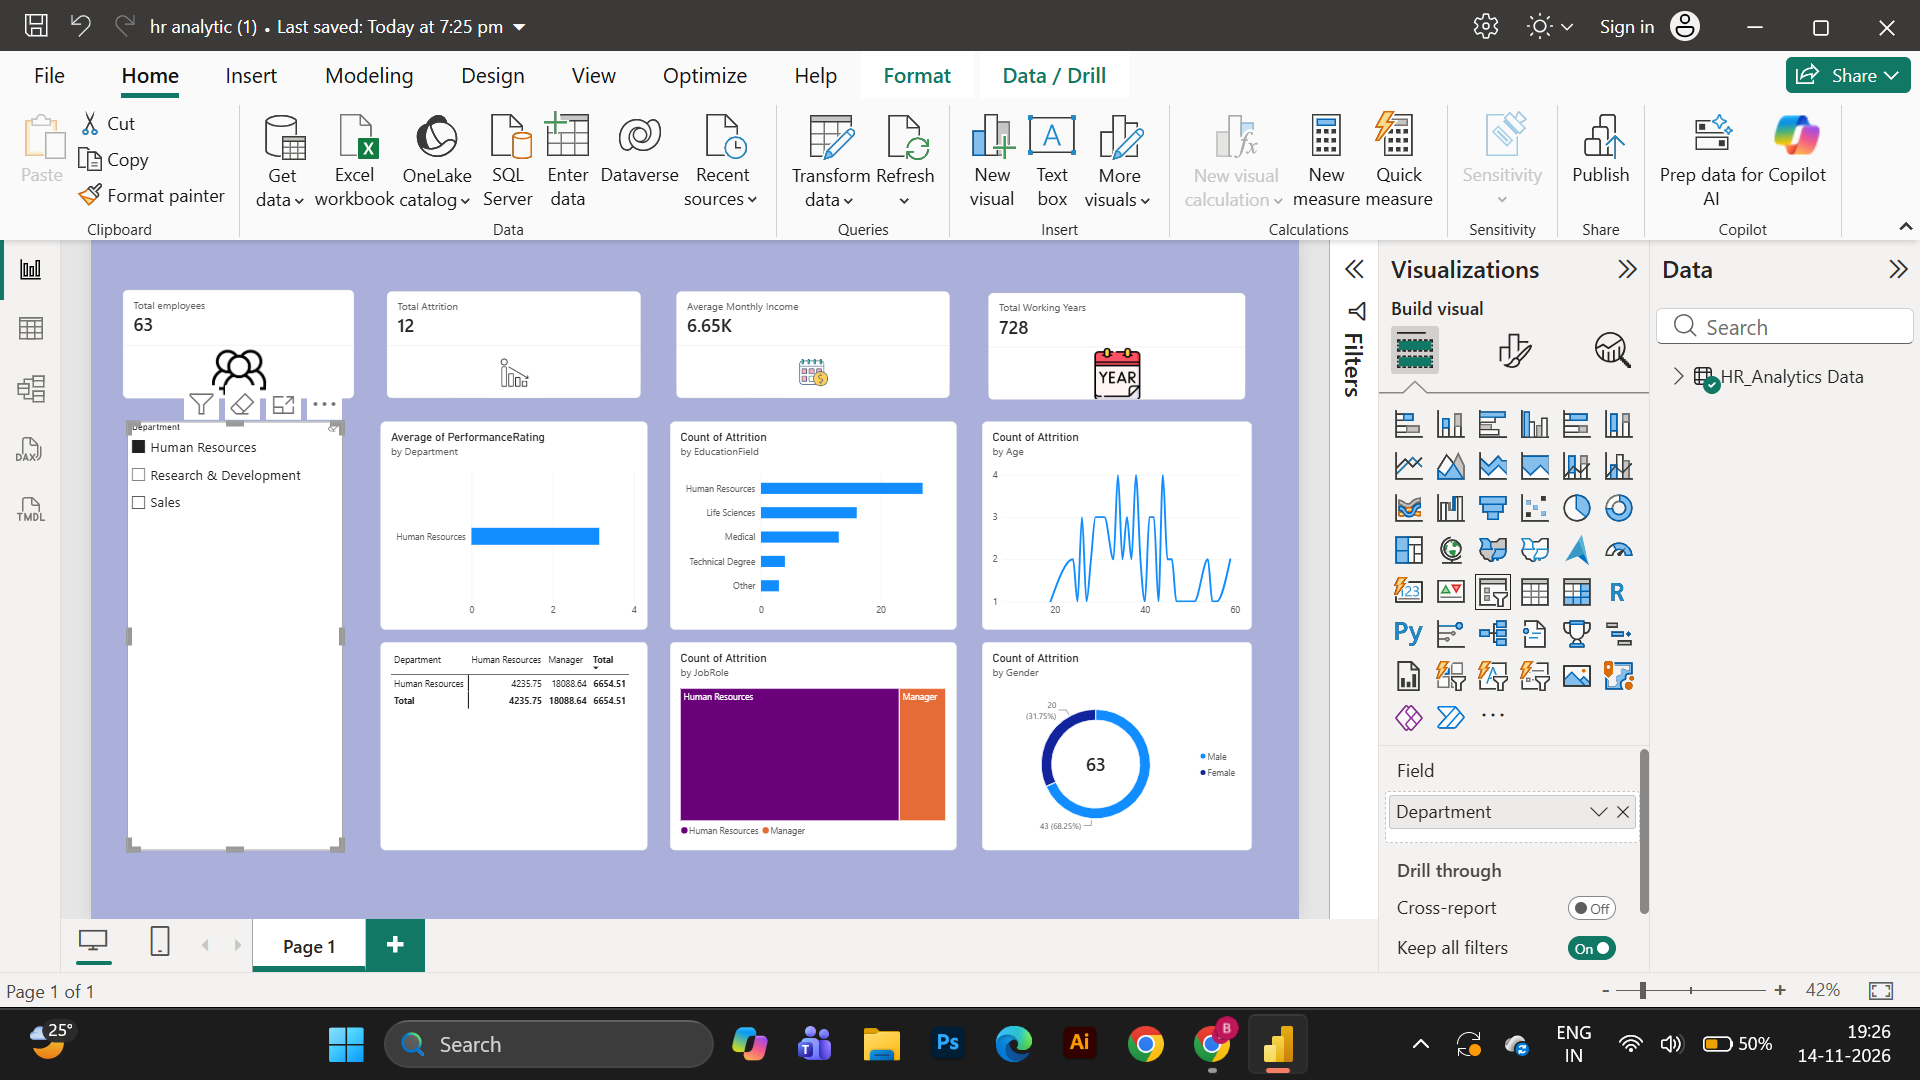

This screenshot's page, from the dashboard's own definition file:
{"tool":"powerbi","page":{"name":"Page 1","canvas":[1920,1080],"ordinal":0},"visuals":[{"type":"slicer","fields":{"Values":["HR_Analytics Data.Department"]},"box":[57.3,288.7,343.6,682.4],"z":0},{"type":"donutChart","fields":{"Category":["HR_Analytics Data.Gender"],"Y":["CountNonNull(HR_Analytics Data.Attrition)"]},"box":[1417.2,639.4,429.5,331.6],"z":1000},{"type":"clusteredBarChart","fields":{"Category":["HR_Analytics Data.EducationField"],"Y":["CountNonNull(HR_Analytics Data.Attrition)"]},"box":[921,288.7,455.7,331.6],"z":2000},{"type":"cardVisual","fields":{"Data":["Sum(HR_Analytics Data.EmployeeCount)"]},"box":[40.6,69.2,388.9,193.3],"z":3000},{"type":"cardVisual","fields":{"Data":["HR_Analytics Data.Total Attrition"]},"box":[460.5,71.6,424.7,190.9],"z":4000},{"type":"lineChart","fields":{"Category":["HR_Analytics Data.Age"],"Y":["CountNonNull(HR_Analytics Data.Attrition)"]},"box":[1417.2,288.7,429.5,331.6],"z":5000},{"type":"treemap","fields":{"Group":["HR_Analytics Data.JobRole"],"Values":["CountNonNull(HR_Analytics Data.Attrition)"]},"box":[921,639.4,455.7,331.6],"z":6000},{"type":"cardVisual","fields":{"Data":["HR_Analytics Data.Average Monthly Income"]},"box":[921,71.6,455.7,190.9],"z":7000},{"type":"cardVisual","fields":{"Data":["HR_Analytics Data.Total Working Years"]},"box":[1417.2,74,429.5,190.9],"z":8000},{"type":"pivotTable","fields":{"Columns":["HR_Analytics Data.JobRole"],"Rows":["HR_Analytics Data.Department"],"Values":["Avg(HR_Analytics Data.MonthlyIncome)"]},"box":[460.5,639.4,424.7,331.6],"z":9000},{"type":"barChart","fields":{"Category":["HR_Analytics Data.Department"],"Y":["Avg(HR_Analytics Data.PerformanceRating)"]},"box":[460.5,288.7,424.7,331.6],"z":10000},{"type":"textbox","box":[57,895,281,150],"z":10001},{"type":"textbox","box":[100,100,300,300],"z":10002}]}

Visuals, with their boxes on the page's 1920x1080 design canvas (x1, y1, x2, y2). These are canvas units, not pixel positions in the 1920x1080 screenshot, which may show the page scaled, cropped or inside an application window:
slicer - HR_Analytics Data.Department: [57,289,401,971]
donutChart - HR_Analytics Data.Gender x CountNonNull(HR_Analytics Data.Attrition): [1417,639,1847,971]
clusteredBarChart - HR_Analytics Data.EducationField x CountNonNull(HR_Analytics Data.Attrition): [921,289,1377,620]
cardVisual - Sum(HR_Analytics Data.EmployeeCount): [41,69,430,262]
cardVisual - HR_Analytics Data.Total Attrition: [460,72,885,262]
lineChart - HR_Analytics Data.Age x CountNonNull(HR_Analytics Data.Attrition): [1417,289,1847,620]
treemap - HR_Analytics Data.JobRole x CountNonNull(HR_Analytics Data.Attrition): [921,639,1377,971]
cardVisual - HR_Analytics Data.Average Monthly Income: [921,72,1377,262]
cardVisual - HR_Analytics Data.Total Working Years: [1417,74,1847,265]
pivotTable - HR_Analytics Data.JobRole x HR_Analytics Data.Department: [460,639,885,971]
barChart - HR_Analytics Data.Department x Avg(HR_Analytics Data.PerformanceRating): [460,289,885,620]
textbox: [57,895,338,1045]
textbox: [100,100,400,400]
